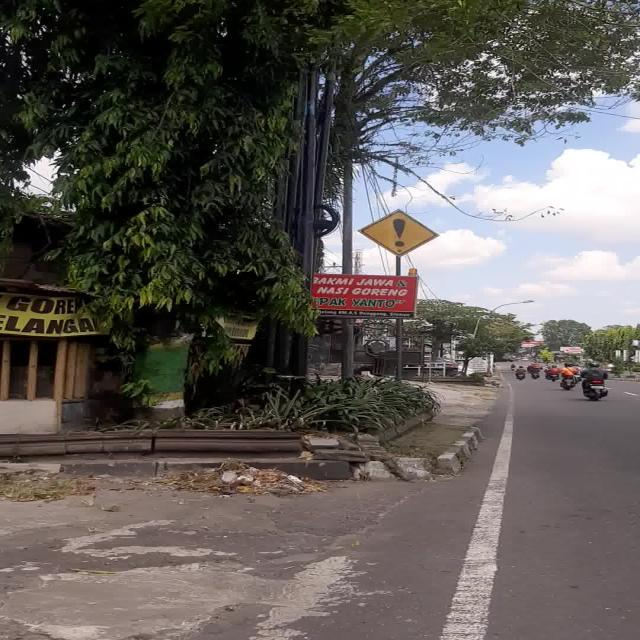Hati-Hati: (358, 208, 441, 258)
